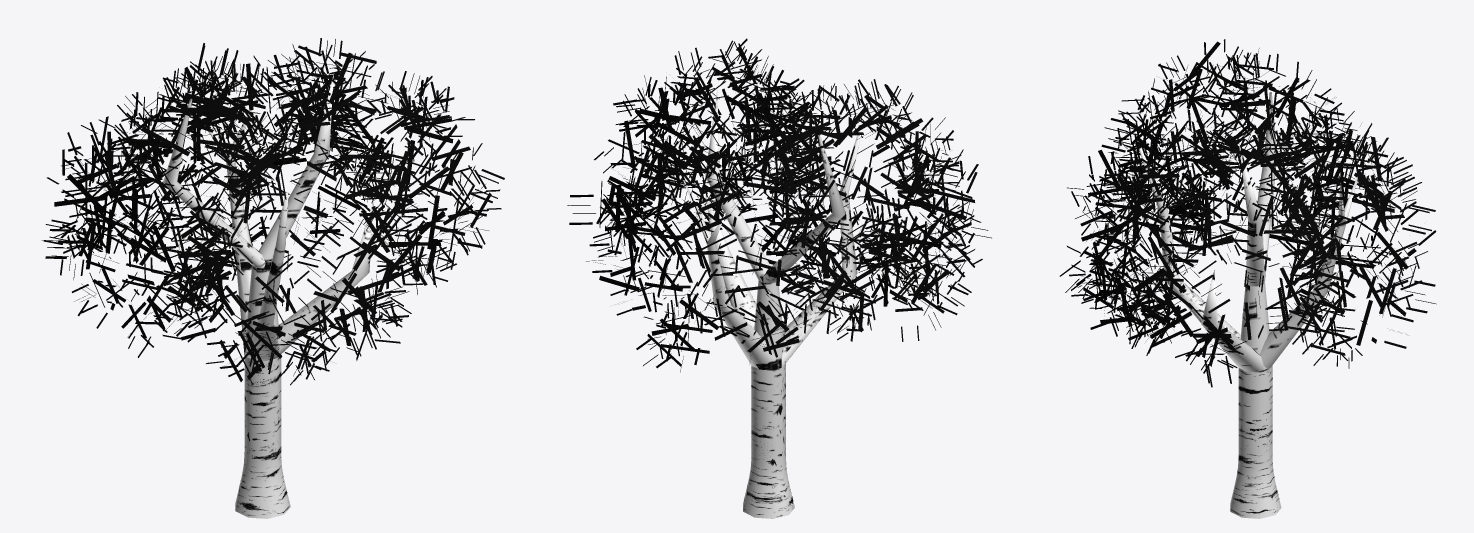
File: birch.fbx
3 renders of one model, left to right at view 1: azimuth 30°, elevation 25°; view 2: azimuth 150°, elevation 25°; view 3: azimuth 270°, elevation 25°, orthographic. The views are drawn at different scales.
Parts seen in each view (by area): view 1: Leaves, Trunk; view 2: Leaves, Trunk; view 3: Leaves, Trunk.
Part boxes in pixels (x1,y1,x2,y2): Leaves: [41, 38, 504, 385]; Trunk: [163, 74, 373, 518]; Leaves: [567, 38, 991, 372]; Trunk: [683, 90, 862, 518]; Leaves: [1059, 39, 1436, 387]; Trunk: [1139, 92, 1360, 518].
Size of the model in its own units: 26.74 by 27.94 by 23.98.
